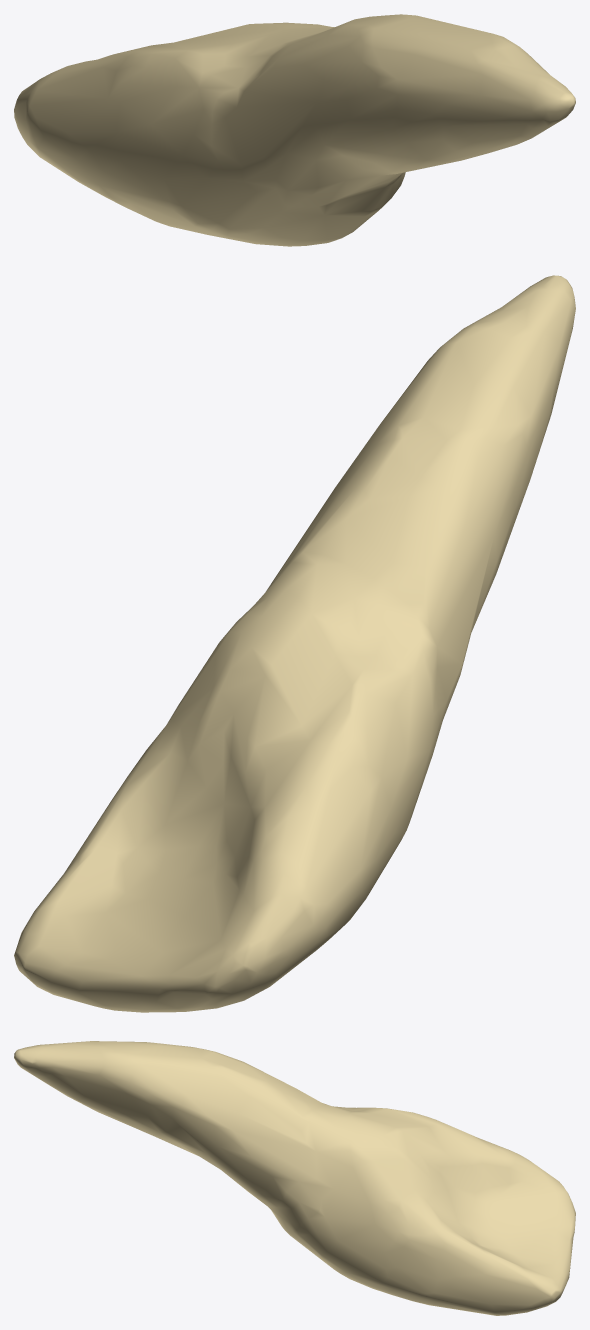
The picture shows the model from 3 angles, top to bottom: view 1: azimuth 30°, elevation 25°; view 2: azimuth 150°, elevation 25°; view 3: azimuth 270°, elevation 25°; orthographic projection. The views are drawn at different scales.
Parts seen in each view (by area): view 1: 右侧上颌中切牙; view 2: 右侧上颌中切牙; view 3: 右侧上颌中切牙.
Boxes of the visible parts, <box> form: 右侧上颌中切牙: <box>14,14,575,246</box>; 右侧上颌中切牙: <box>14,275,575,1012</box>; 右侧上颌中切牙: <box>14,1041,575,1315</box>.
Size of the model in its own units: 0.0129 by 0.0186 by 0.0379.
